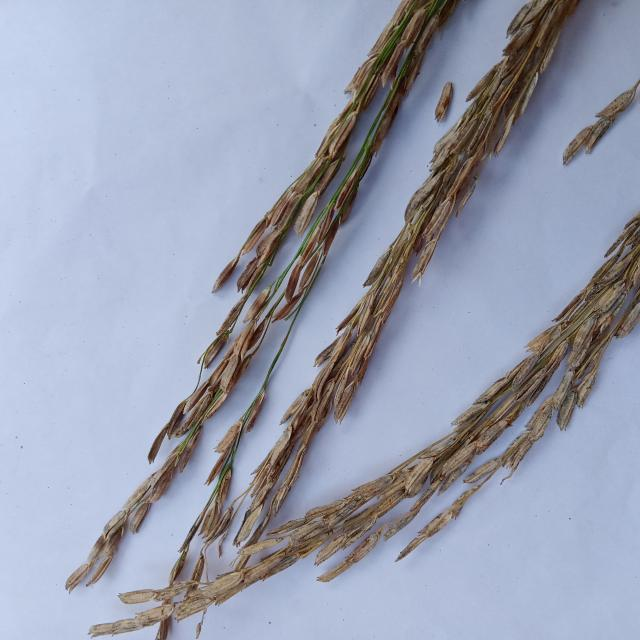Neck_Blast: (74, 0, 462, 596), (229, 1, 579, 540), (240, 213, 640, 592)
